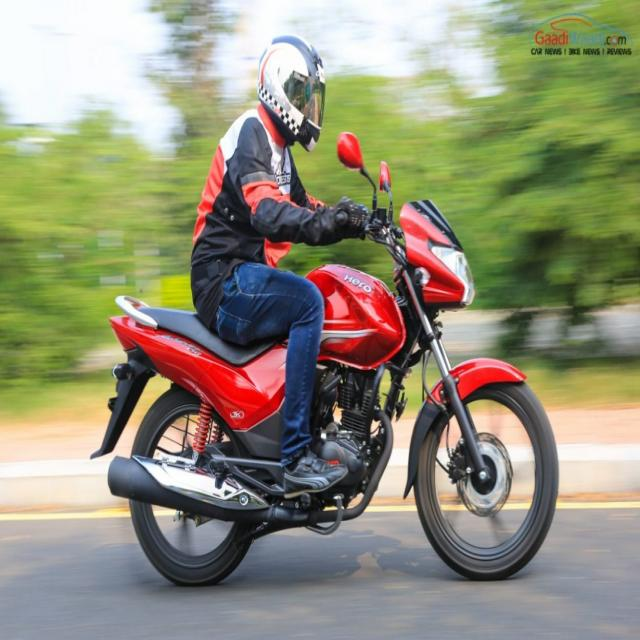not_triplets: (111, 24, 560, 591)
with-helmet: (259, 27, 329, 150)
